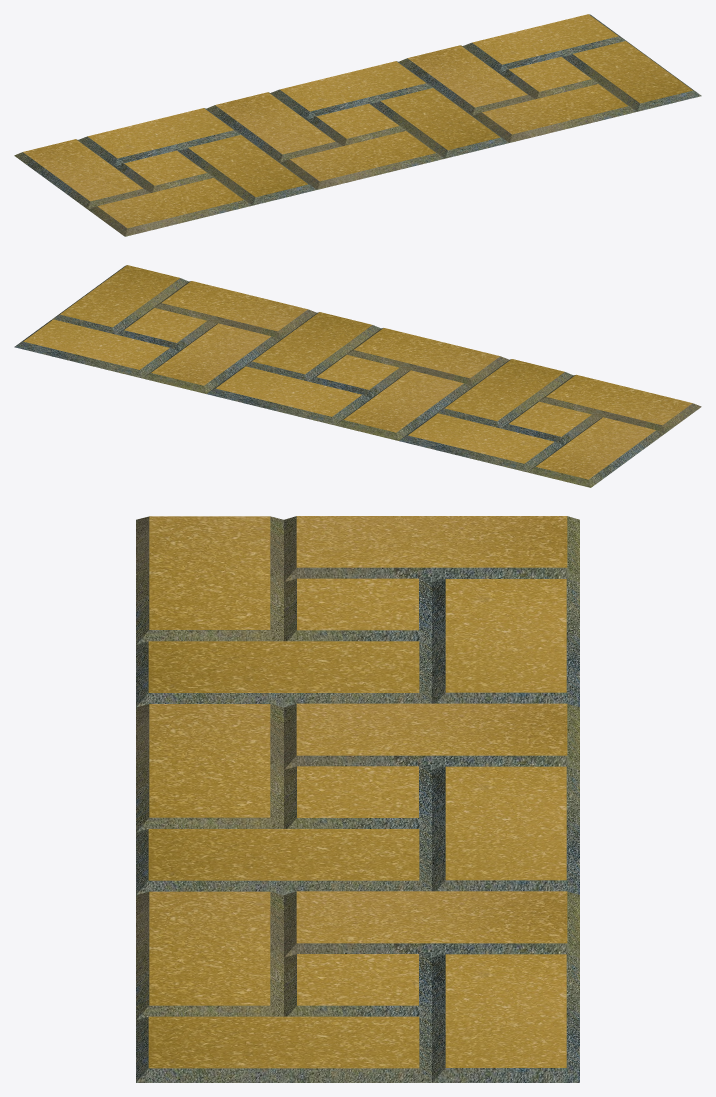
The model's file is Chão3tile.fbx.
The picture shows the model from 3 angles, top to bottom: view 1: azimuth 30°, elevation 25°; view 2: azimuth 150°, elevation 25°; view 3: azimuth 270°, elevation 25°; orthographic projection. The views are drawn at different scales.
Visible parts, largest first — view 1: Plano.003; view 2: Plano.003; view 3: Plano.003.
Boxes of the visible parts, x1=… form: Plano.003: x1=14, y1=14, x2=701, y2=236; Plano.003: x1=14, y1=265, x2=701, y2=487; Plano.003: x1=136, y1=516, x2=579, y2=1082.
Bounding box in the file's own units: 8775 × 66.58 × 2925.
